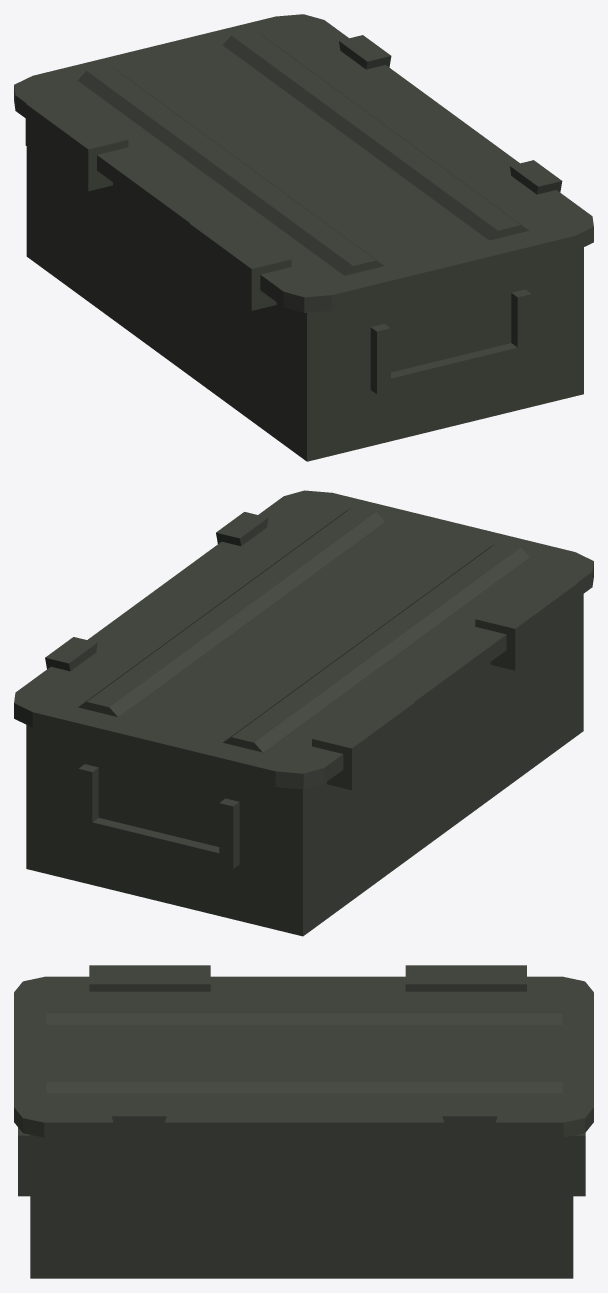
The model's file is SM_Veh_Attach_Container_02.fbx.
3 renders of one model, top to bottom at view 1: azimuth 30°, elevation 25°; view 2: azimuth 150°, elevation 25°; view 3: azimuth 270°, elevation 25°, orthographic. The views are drawn at different scales.
Parts seen in each view (by area): view 1: SM_Veh_Attach_Container_02; view 2: SM_Veh_Attach_Container_02; view 3: SM_Veh_Attach_Container_02.
Boxes of the visible parts, bbox=[...] form: SM_Veh_Attach_Container_02: bbox=[14, 14, 593, 461]; SM_Veh_Attach_Container_02: bbox=[14, 490, 593, 936]; SM_Veh_Attach_Container_02: bbox=[14, 965, 593, 1278].
Size of the model in its own units: 57.89 by 30.51 by 93.31.
